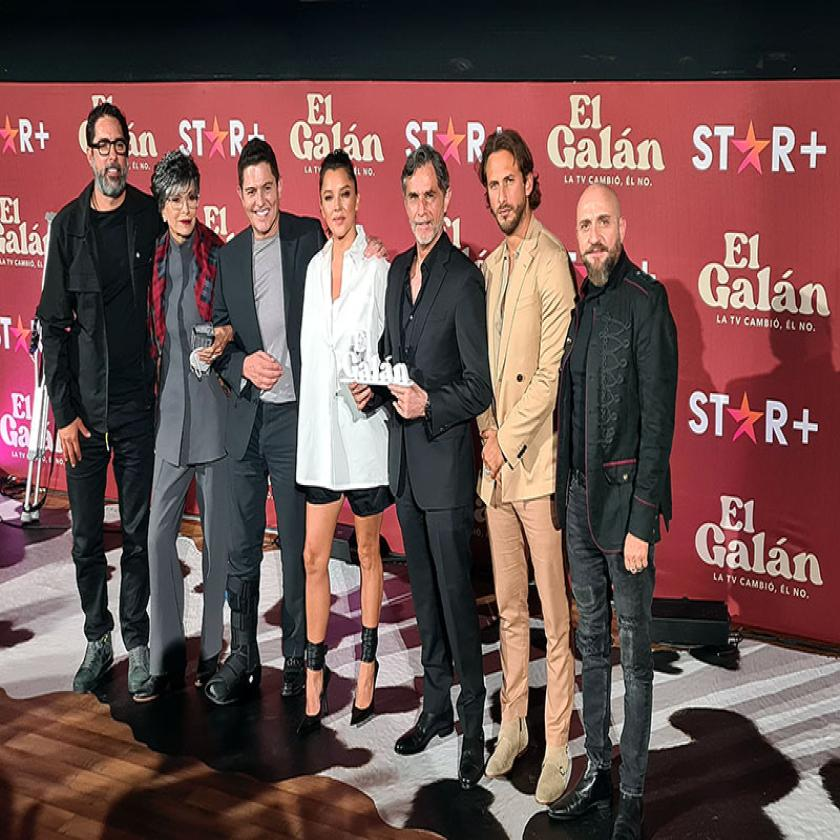Sin_casco: (473, 118, 546, 243), (573, 155, 644, 275), (76, 94, 145, 206), (235, 136, 299, 250), (319, 145, 378, 266), (397, 152, 461, 250), (154, 140, 208, 250)
